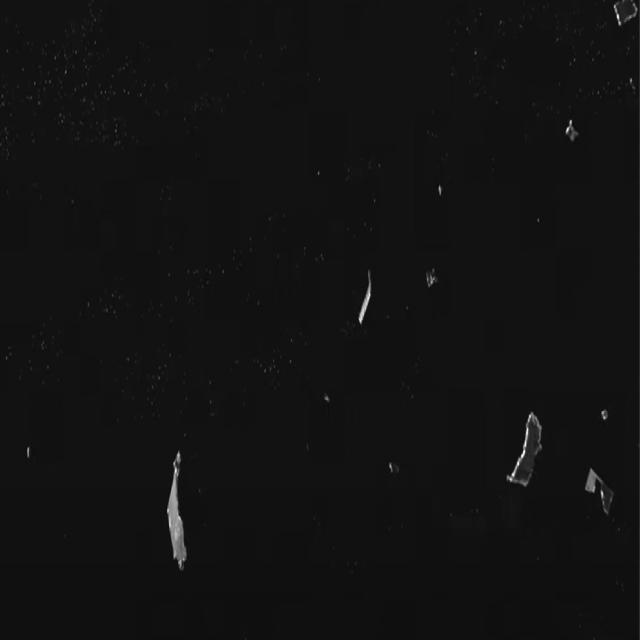large_debris: (158, 396, 208, 591), (510, 390, 550, 520), (341, 239, 380, 348), (575, 458, 616, 515), (609, 0, 640, 45), (562, 107, 578, 164)
